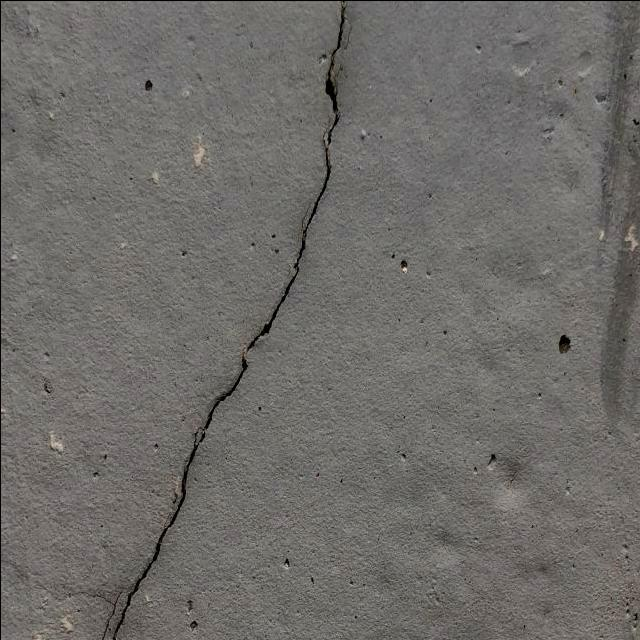SurfaceCrack: (77, 1, 378, 640)
